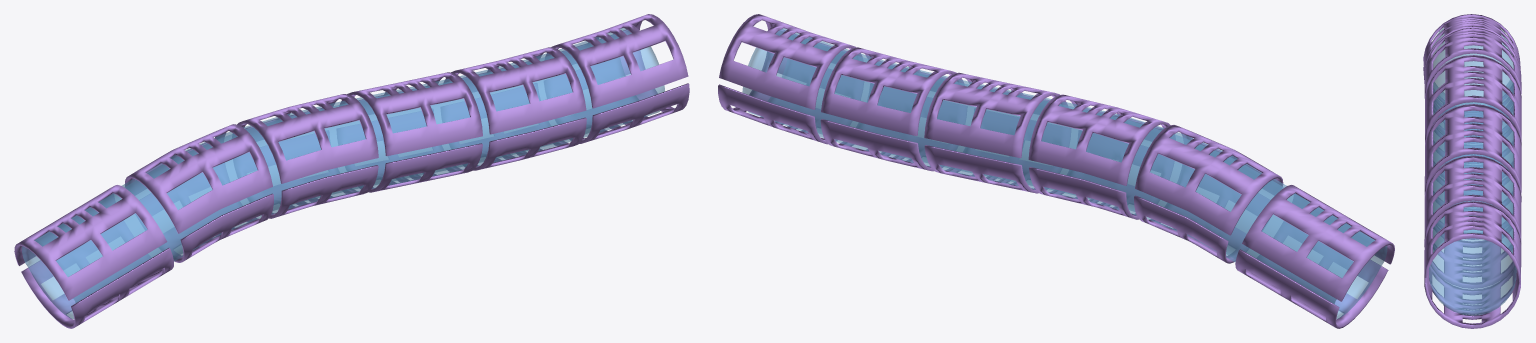
The model's file is tunelarreglado.fbx.
The picture shows the model from 3 angles, left to right: view 1: azimuth 30°, elevation 25°; view 2: azimuth 150°, elevation 25°; view 3: azimuth 270°, elevation 25°; orthographic projection. The views are drawn at different scales.
Visible parts, largest first — view 1: Cylinder.005, Cylinder.004; view 2: Cylinder.005, Cylinder.004; view 3: Cylinder.005, Cylinder.004.
Part boxes in pixels (bbox=[...]): Cylinder.005: bbox=[14, 14, 689, 328]; Cylinder.004: bbox=[22, 28, 664, 319]; Cylinder.005: bbox=[718, 14, 1394, 328]; Cylinder.004: bbox=[742, 28, 1387, 318]; Cylinder.005: bbox=[1423, 14, 1521, 328]; Cylinder.004: bbox=[1429, 28, 1516, 315].
Size of the model in its own units: 27507 by 6608 by 3834.
